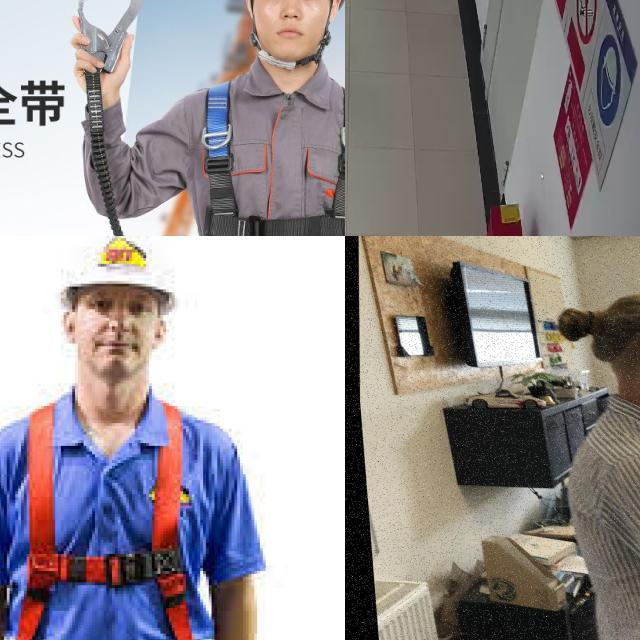Ear-protection: (580, 274, 640, 435)
Harness: (3, 398, 218, 640), (190, 78, 345, 236)
No_Glasses: (260, 0, 328, 6)
